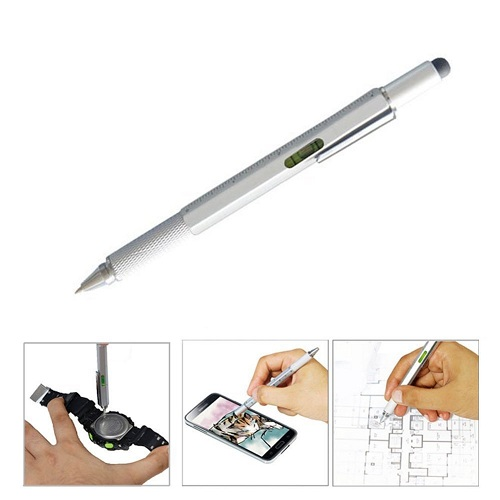Boligrafo: (71, 53, 455, 299), (231, 348, 330, 425), (377, 341, 440, 429)
